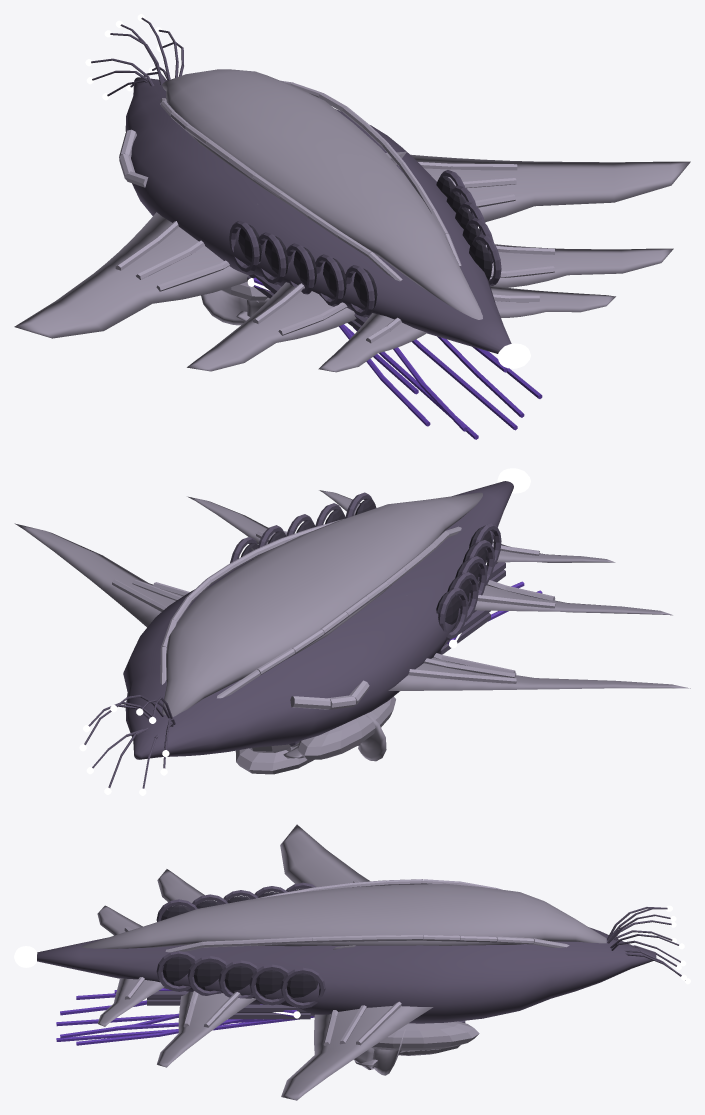
3 views of the same model, one above another, from view 1: azimuth 30°, elevation 25°; view 2: azimuth 150°, elevation 25°; view 3: azimuth 270°, elevation 25° (orthographic). The views are drawn at different scales.
Visible parts, largest first — view 1: RIMWARD_HULL, RIMWARD_ENGINE_GLOW; view 2: RIMWARD_HULL, RIMWARD_EMISSIVE, RIMWARD_ENGINE_GLOW; view 3: RIMWARD_HULL.
Part boxes in pixels (x1,y1,x2,y2): RIMWARD_HULL: (14,17,690,439); RIMWARD_ENGINE_GLOW: (497,343,530,368); RIMWARD_HULL: (14,481,690,788); RIMWARD_EMISSIVE: (79,633,461,795); RIMWARD_ENGINE_GLOW: (497,468,530,493); RIMWARD_HULL: (37,824,685,1100).
Bounding box in the file's own units: 10.56 × 2.71 × 10.93.
